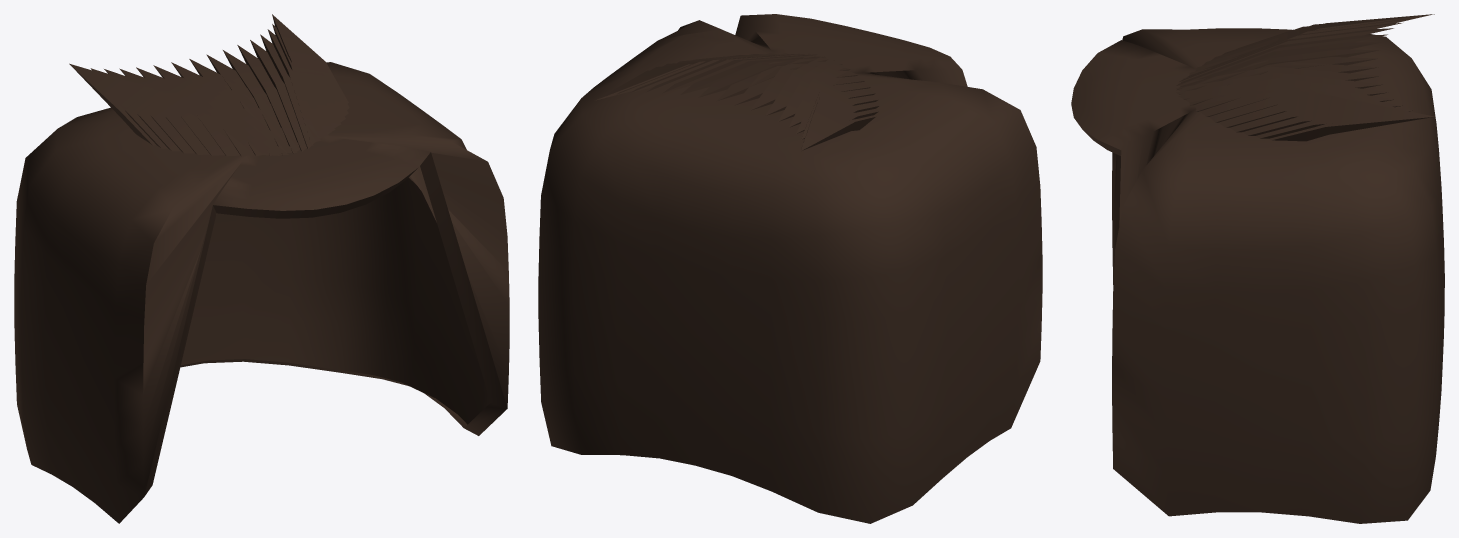
The model's file is Cuerpo_Pelo_PeinadoAtras.fbx.
3 renders of one model, left to right at view 1: azimuth 30°, elevation 25°; view 2: azimuth 150°, elevation 25°; view 3: azimuth 270°, elevation 25°, orthographic. The views are drawn at different scales.
Parts seen in each view (by area): view 1: Cuerpo_Pelo_PeinadoAtras; view 2: Cuerpo_Pelo_PeinadoAtras; view 3: Cuerpo_Pelo_PeinadoAtras.
Part boxes in pixels (x1,y1,x2,y2): Cuerpo_Pelo_PeinadoAtras: [14, 14, 509, 523]; Cuerpo_Pelo_PeinadoAtras: [538, 14, 1042, 523]; Cuerpo_Pelo_PeinadoAtras: [1071, 14, 1444, 523].
Size of the model in its own units: 1.3 by 1.22 by 1.09.
